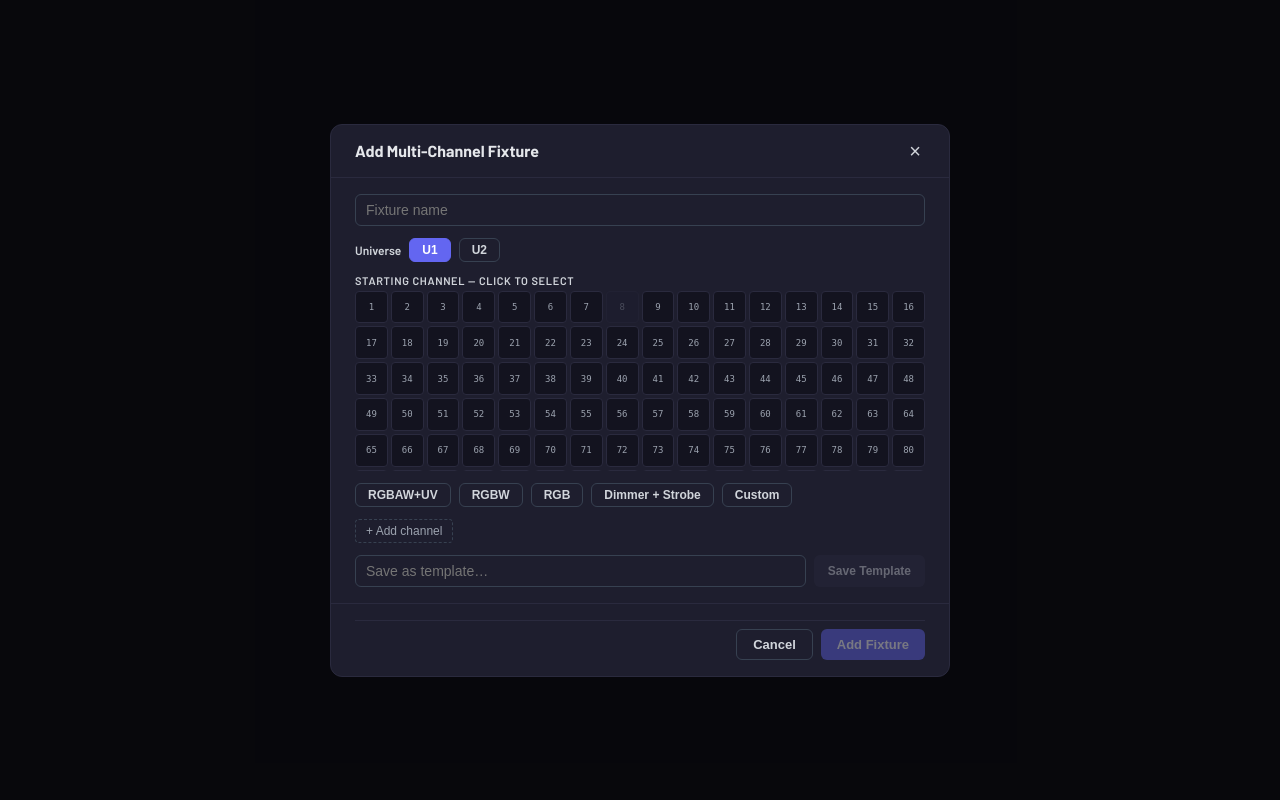
Test: CreateFixtureModal › keeps the selection but disables Add Fixture when widening the layout creates a conflict
Type "Q6" into the field with placeholder "Fixture name" at {"x": 640, "y": 210}, box [355, 194, 925, 226]
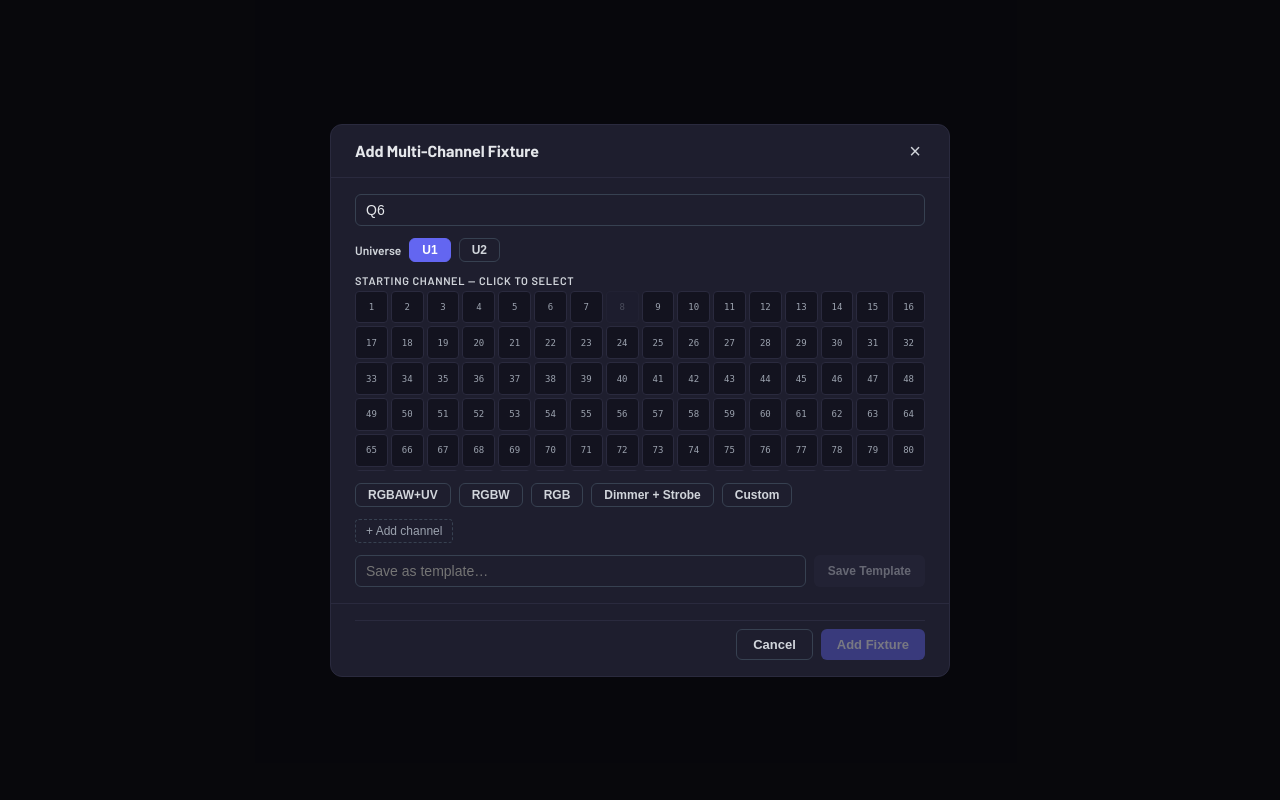
Click the text titled "Channel 5" at {"x": 515, "y": 307}, box [498, 290, 531, 323]
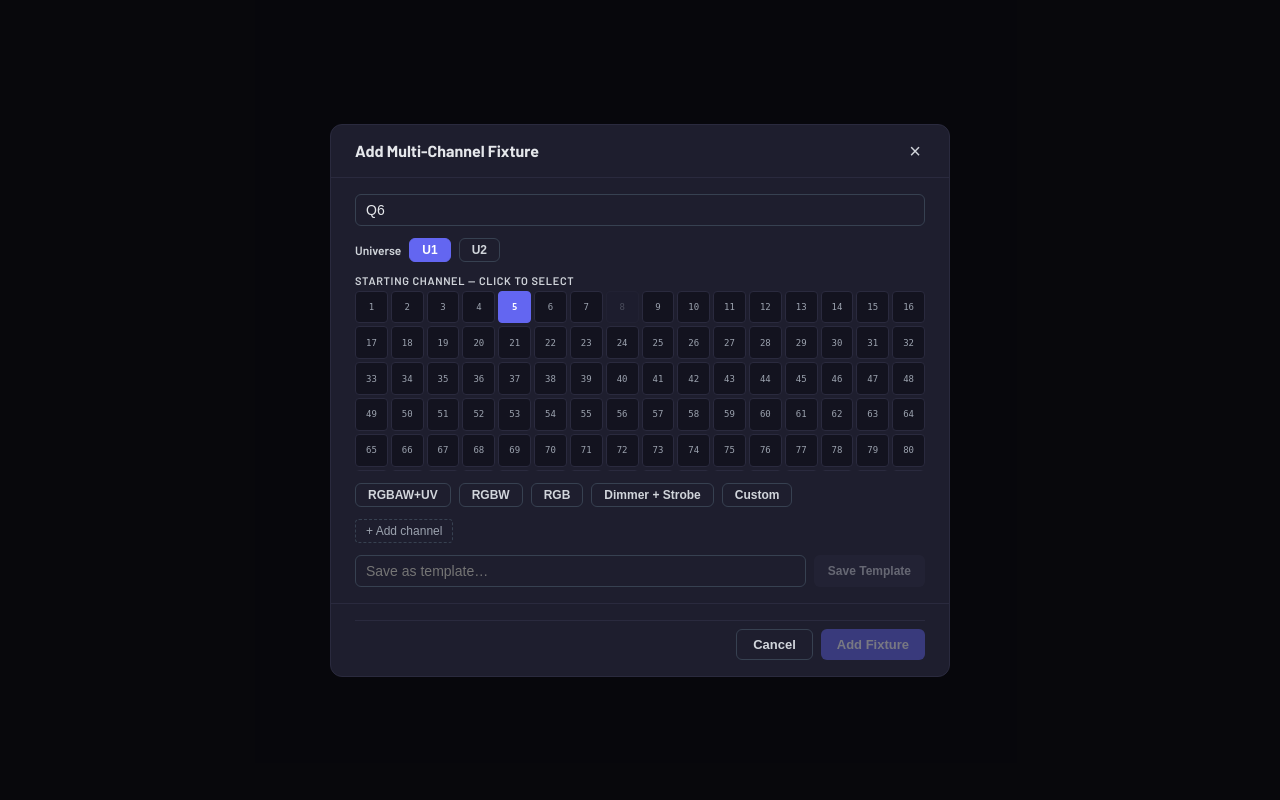
Click the button "RGB" at {"x": 557, "y": 494}, box [531, 482, 583, 506]
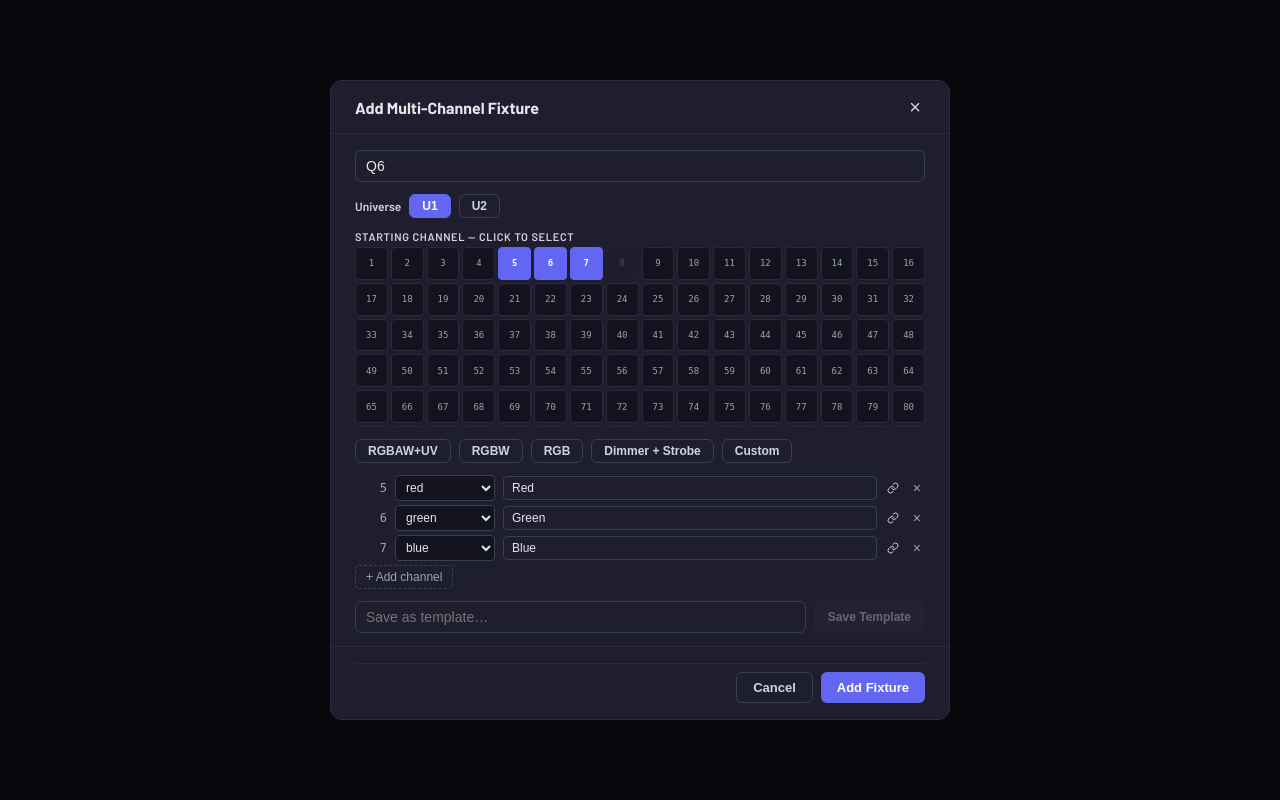
Expected: the button "Add Fixture" is enabled, [821, 672, 925, 703]
Click the button "RGBAW+UV" at {"x": 403, "y": 451}, box [355, 439, 451, 463]
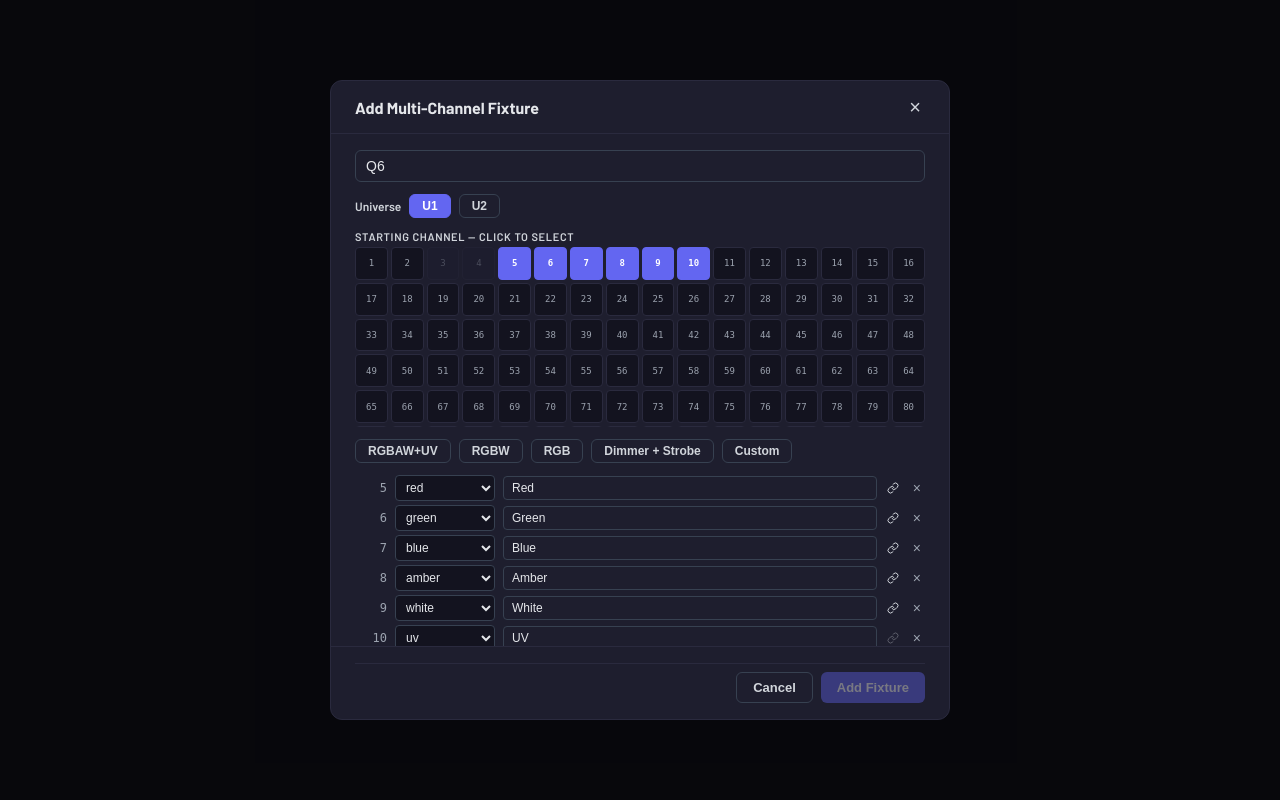
Expected: the button "Add Fixture" is disabled, [821, 672, 925, 703]
